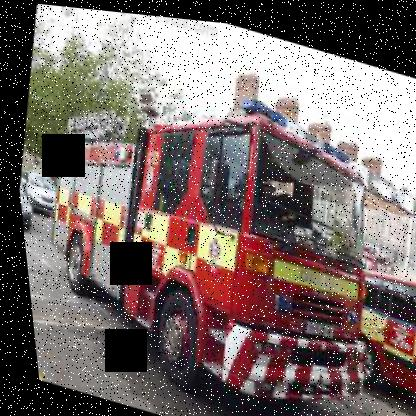emergency: (3, 47, 415, 415)
